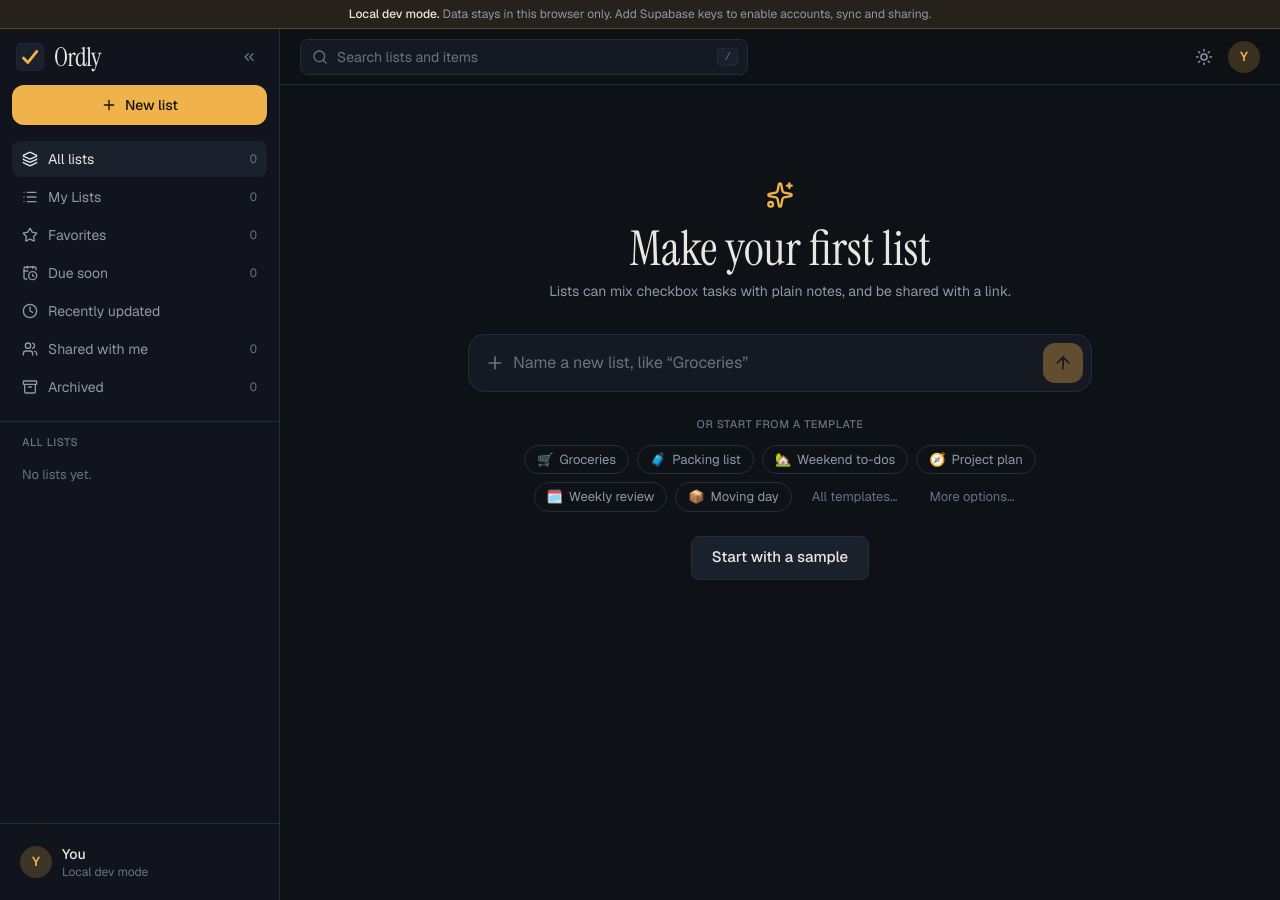
Test: starting from a template › a name typed on the home screen is used instead of the template's
The width and height of the screenshot is (1280, 900).
Type "Weekly shop" into the field named "Name for a new list" at (774, 363), box [513,343,1035,383]
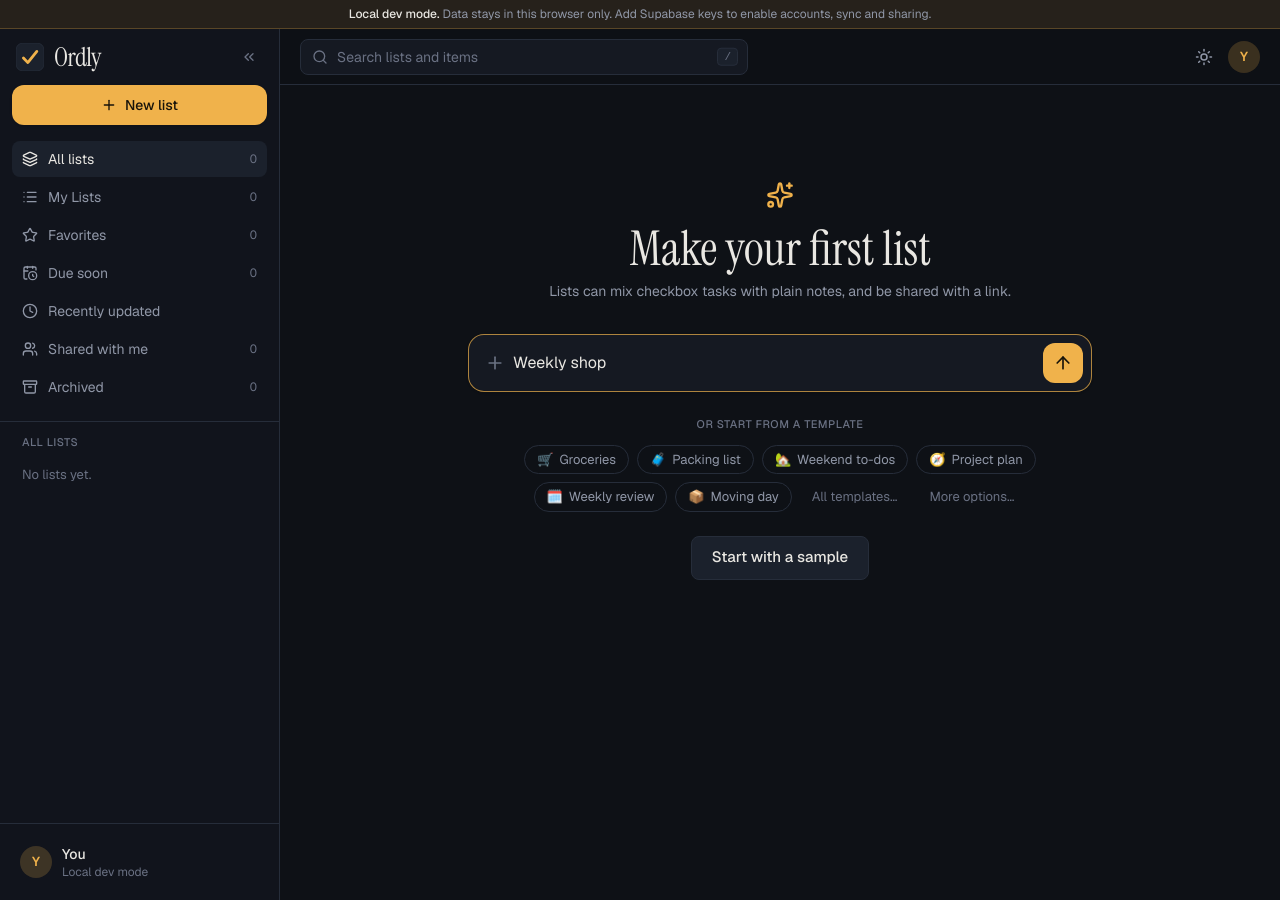
Click the button "🛒 Groceries" at (577, 459), box [524,444,629,474]
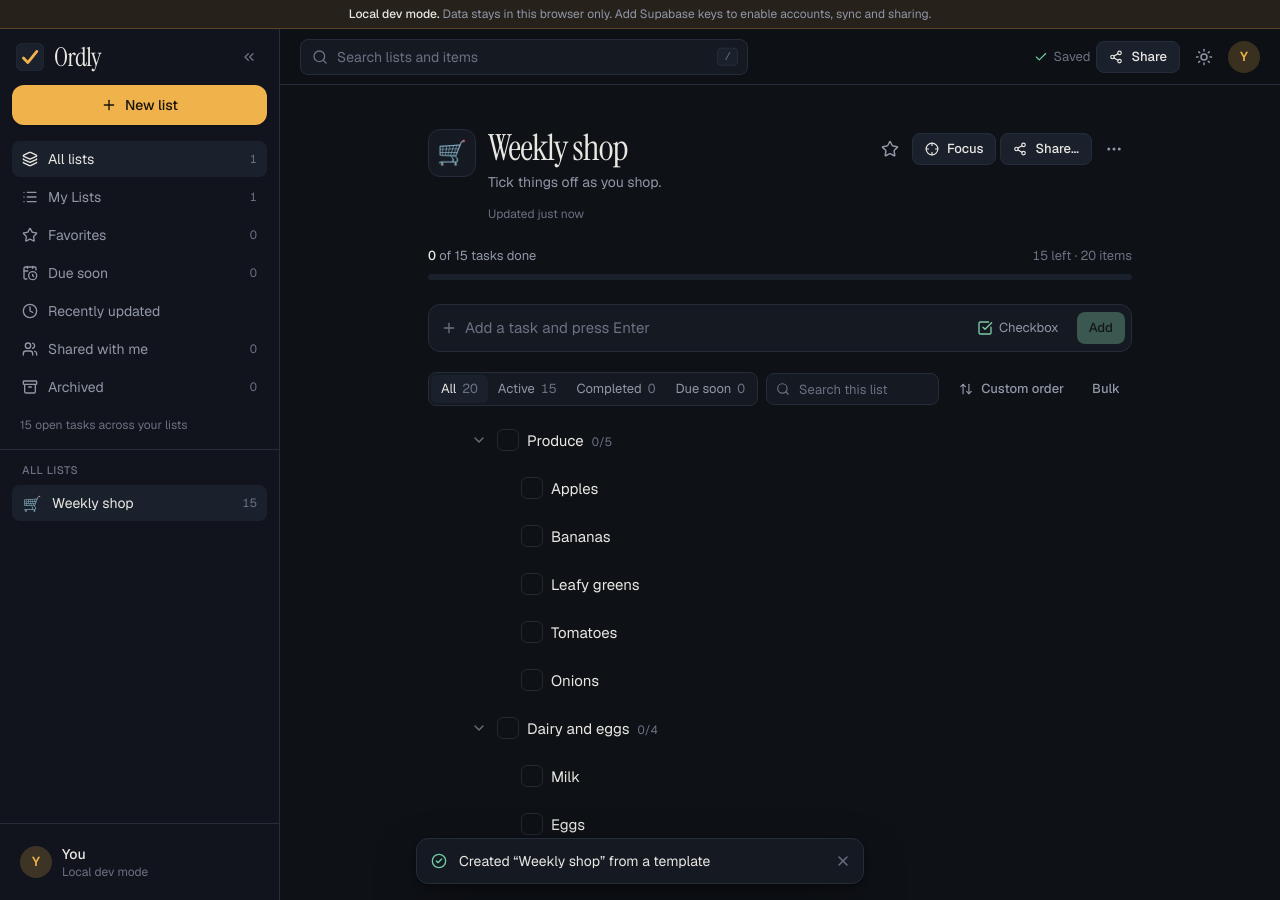
Expected: the field showing "Weekly shop" is shown, [488,125,860,170]
Expected: the text "Weekly shop" is shown, [52,494,134,512]
